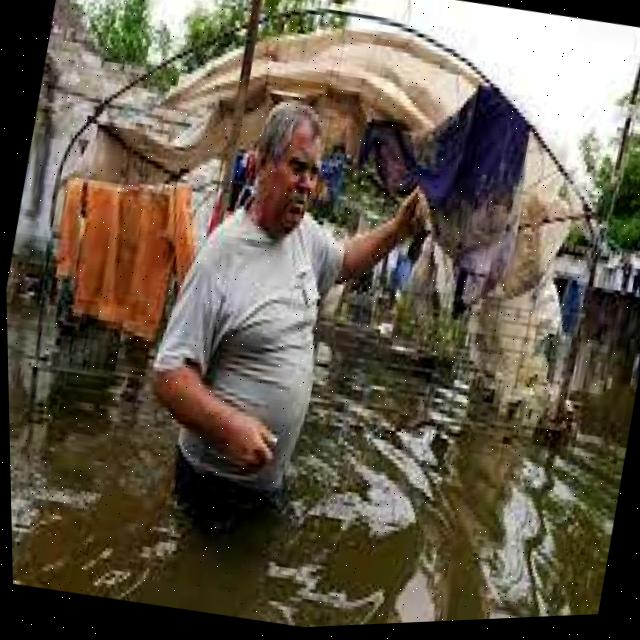civilian: (139, 79, 439, 546)
